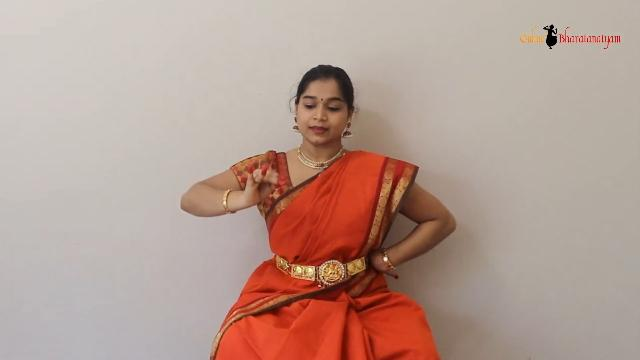katak: (234, 142, 284, 216)
